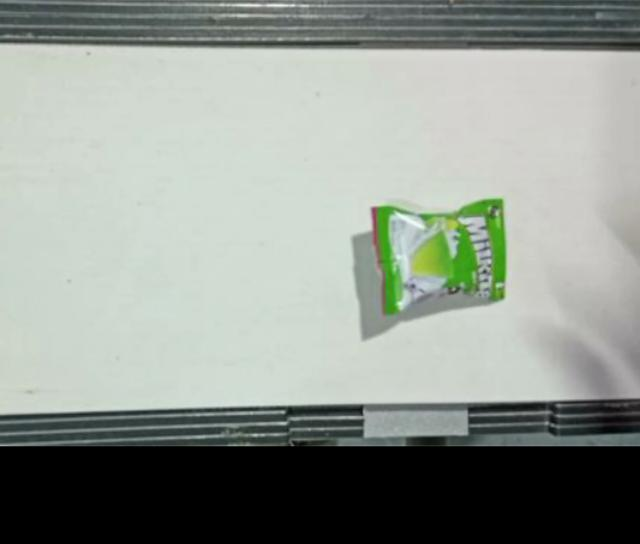Plastik: (371, 198, 506, 317)
